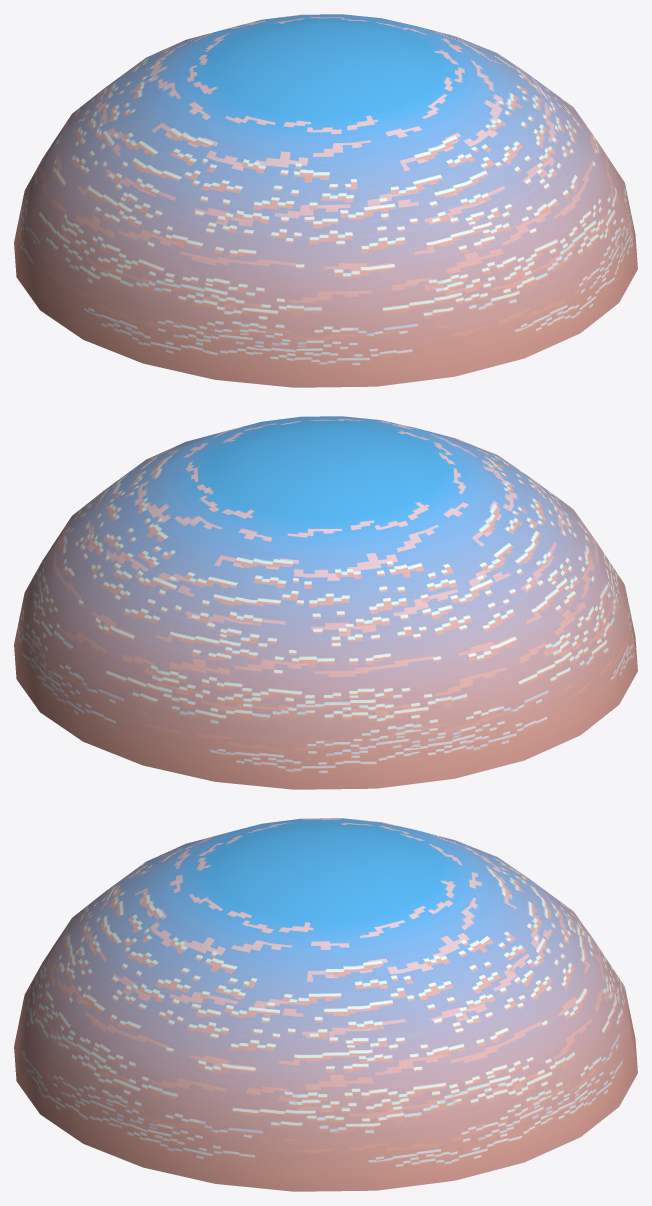
Rendered from sky_02 #1127984.fbx.
3 renders of one model, top to bottom at view 1: azimuth 30°, elevation 25°; view 2: azimuth 150°, elevation 25°; view 3: azimuth 270°, elevation 25°, orthographic.
Visible parts, largest first — view 1: sky_02; view 2: sky_02; view 3: sky_02.
Part boxes in pixels (x1,y1,x2,y2): sky_02: (14,14,637,387); sky_02: (14,416,637,789); sky_02: (14,818,637,1191).
Size of the model in its own units: 2096 by 752 by 2096.
